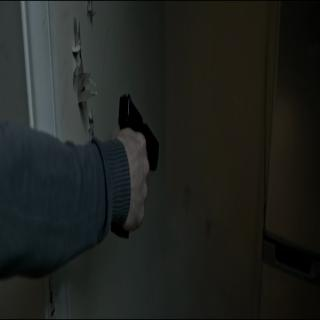gun: (104, 82, 162, 244)
